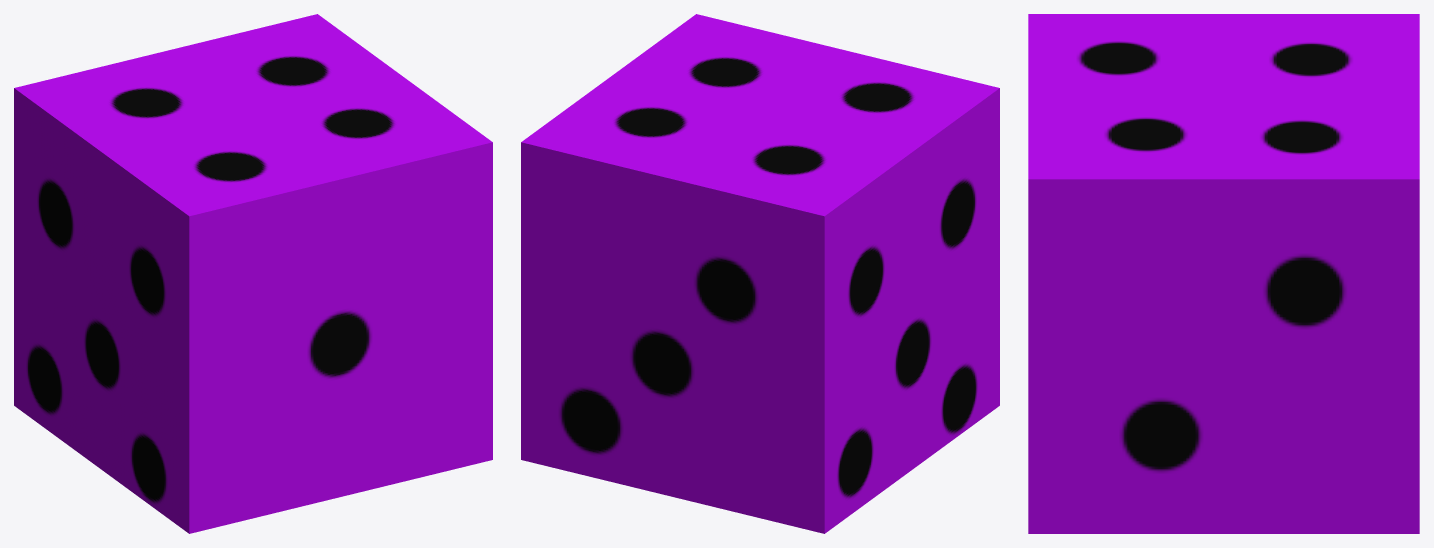
The model's file is ColorDice.fbx.
3 views of the same model, side by side, from view 1: azimuth 30°, elevation 25°; view 2: azimuth 150°, elevation 25°; view 3: azimuth 270°, elevation 25° (orthographic). The views are drawn at different scales.
Visible parts, largest first — view 1: pCube3; view 2: pCube3; view 3: pCube3.
Part boxes in pixels (x1,y1,x2,y2): pCube3: (14, 14, 492, 533); pCube3: (521, 14, 999, 533); pCube3: (1028, 14, 1419, 533).
Bounding box in the file's own units: 1 × 1 × 1.
1 material, 1 textured.
